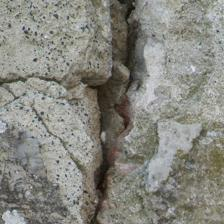Crack: (10, 57, 90, 161), (5, 9, 83, 97), (52, 0, 82, 199)
